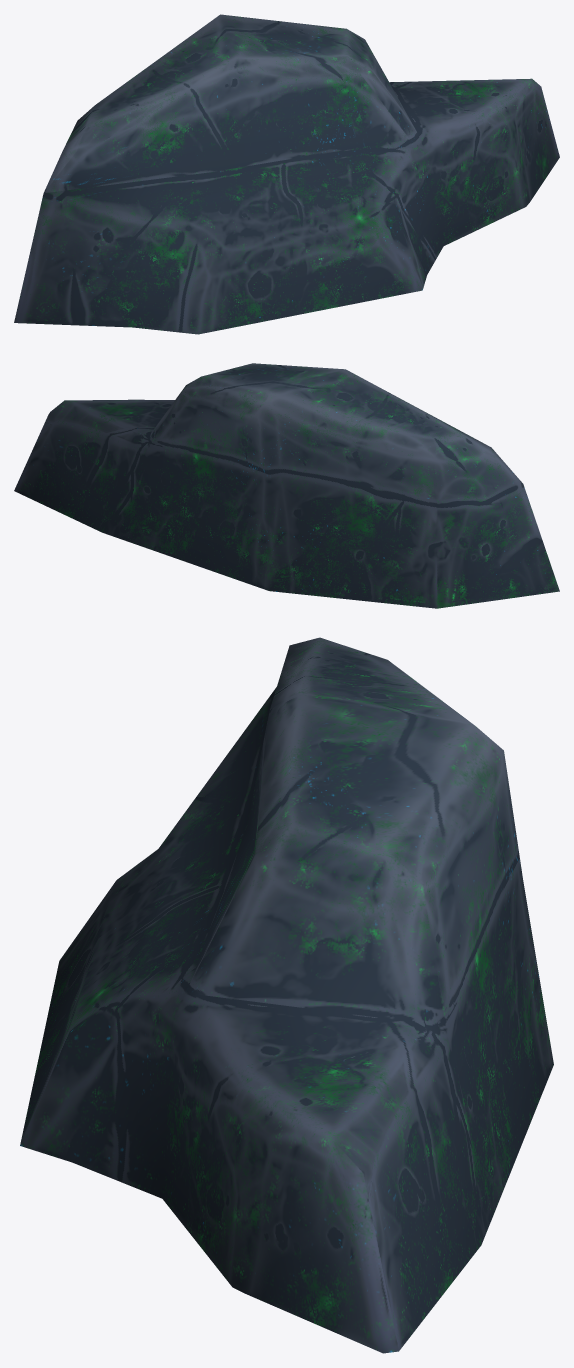
Rendered from stone.obj.
The picture shows the model from 3 angles, top to bottom: view 1: azimuth 30°, elevation 25°; view 2: azimuth 150°, elevation 25°; view 3: azimuth 270°, elevation 25°; orthographic projection. The views are drawn at different scales.
Parts seen in each view (by area): view 1: Stone_Large_01_B_Cube.032; view 2: Stone_Large_01_B_Cube.032; view 3: Stone_Large_01_B_Cube.032.
Part boxes in pixels (x1,y1,x2,y2): Stone_Large_01_B_Cube.032: [14, 14, 559, 334]; Stone_Large_01_B_Cube.032: [14, 363, 559, 608]; Stone_Large_01_B_Cube.032: [20, 637, 553, 1353].
Size of the model in its own units: 12.49 by 4.13 by 5.61.
1 material, 1 textured.
